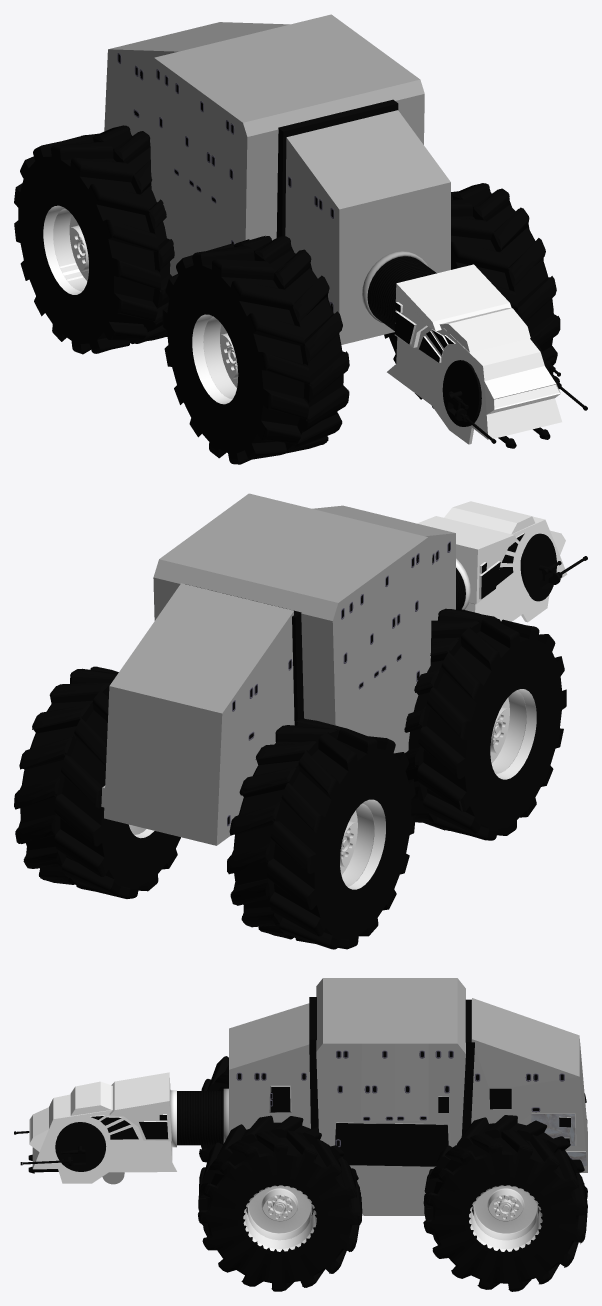
File: atatRollingForGodot.glb
3 views of the same model, one above another, from view 1: azimuth 30°, elevation 25°; view 2: azimuth 150°, elevation 25°; view 3: azimuth 270°, elevation 25° (orthographic). The views are drawn at different scales.
Visible parts, largest first — view 1: body-main, wheelFR, body-ft-bk, tireRR, head, wheelFL, front-swivel, neck, rightChainGun; view 2: body-ft-bk, body-main, tireRR, wheelFR, tireRL, head, rightChainGun, rear-swivel; view 3: body-main, tireRL, wheelFL, body-ft-bk, head, neck, leftChainGun, rear-swivel, front-swivel, wheelFR, Cylinder.005.
Part boxes in pixels (x1,y1,x2,y2): body-main: (148, 14, 424, 276); wheelFR: (162, 235, 349, 464); body-ft-bk: (104, 22, 450, 344); tireRR: (14, 125, 174, 354); head: (387, 264, 561, 444); wheelFL: (384, 183, 560, 408); front-swivel: (276, 99, 398, 237); neck: (367, 256, 436, 330); rightChainGun: (442, 360, 481, 426); body-ft-bk: (101, 505, 455, 845); body-main: (153, 493, 432, 753); tireRR: (227, 718, 415, 949); wheelFR: (404, 608, 566, 840); tireRL: (14, 666, 180, 898); head: (417, 501, 567, 622); rightChainGun: (520, 533, 556, 601); rear-swivel: (185, 584, 303, 725); body-main: (316, 978, 465, 1215); tireRL: (423, 1115, 587, 1291); wheelFL: (198, 1115, 362, 1291); body-ft-bk: (223, 998, 587, 1172); head: (29, 1072, 177, 1183); neck: (177, 1091, 223, 1145); leftChainGun: (55, 1122, 106, 1171); rear-swivel: (462, 999, 474, 1134); front-swivel: (309, 997, 318, 1128); wheelFR: (199, 1056, 228, 1162); Cylinder.005: (20, 1149, 85, 1166).
Bounding box in the file's own units: 3.89 × 3.82 × 8.71.
11 materials, 1 textured.
